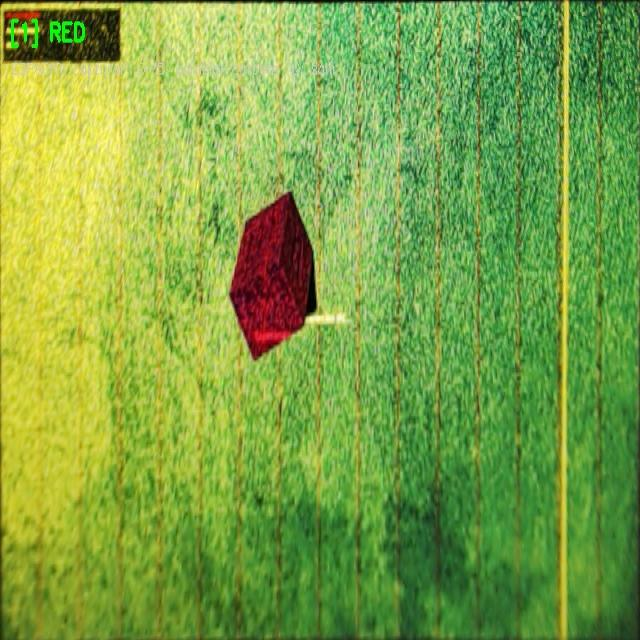red: (229, 192, 315, 359)
